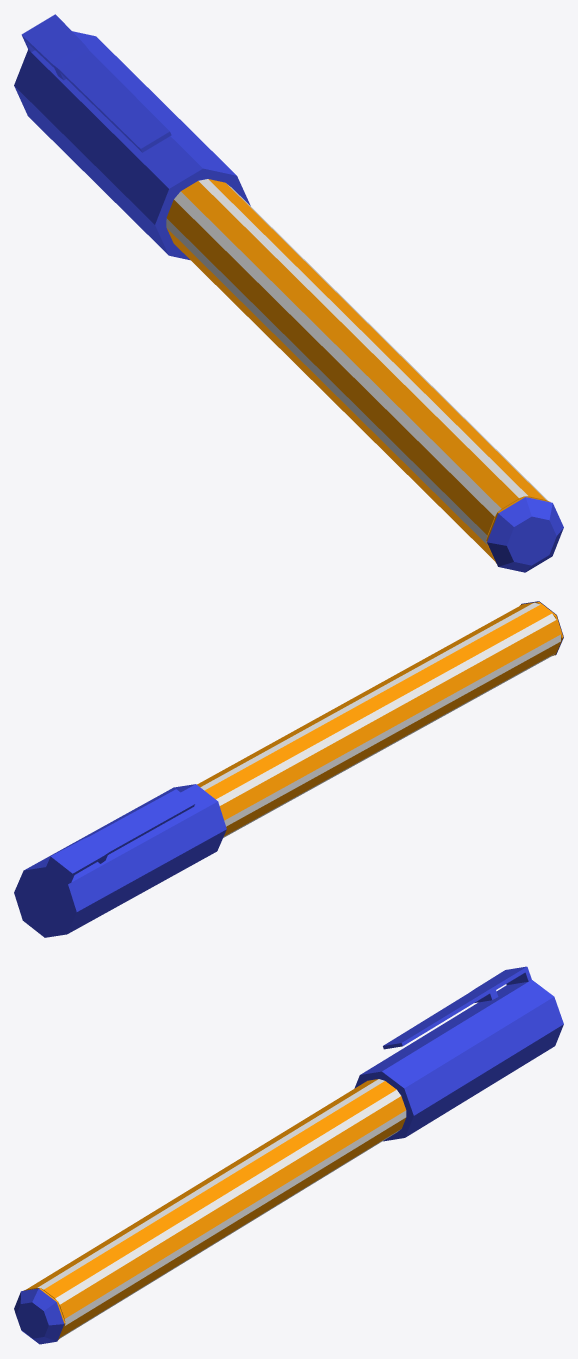
File: pencil.fbx
The picture shows the model from 3 angles, top to bottom: view 1: azimuth 30°, elevation 25°; view 2: azimuth 150°, elevation 25°; view 3: azimuth 330°, elevation 25°; orthographic projection. The views are drawn at different scales.
Parts seen in each view (by area): view 1: Cylinder.001; view 2: Cylinder.001; view 3: Cylinder.001.
Part boxes in pixels (x1,y1,x2,y2): Cylinder.001: (14, 14, 563, 572); Cylinder.001: (14, 601, 563, 937); Cylinder.001: (14, 966, 563, 1344).
Bounding box in the file's own units: 19.65 × 12.41 × 107.
